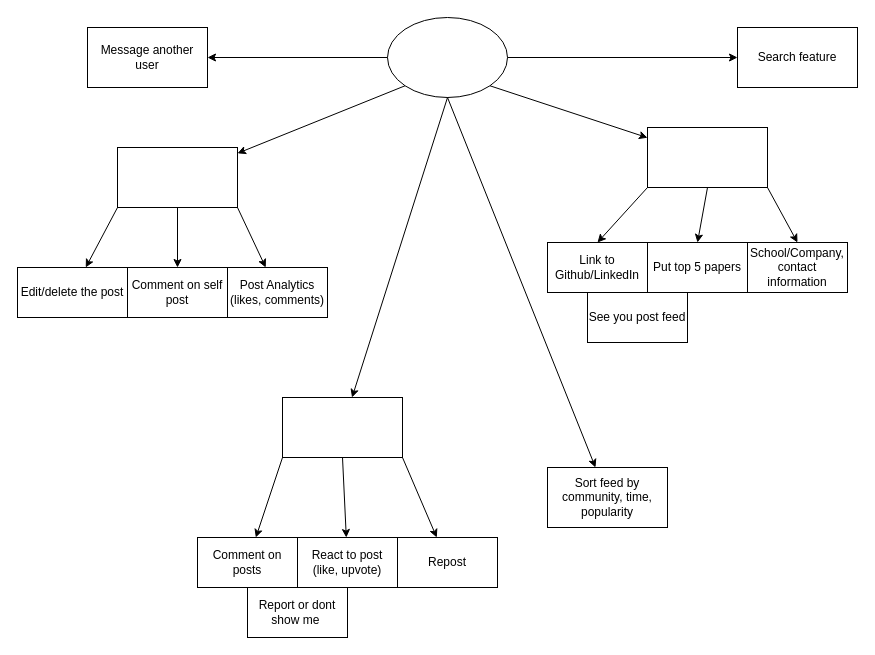
Some shapes in this 875 by 655 pixel diagram are drawn without their labels. The shapes that lost their labels are listed below. From the top down, each one's centre as x and y in pixels, then its label:
At [447,57]: "User".
At [177,177]: "Make a post of favorite papers - needs a category tag".
At [707,157]: "Create User Profile".
At [342,427]: "User Post Feed".
